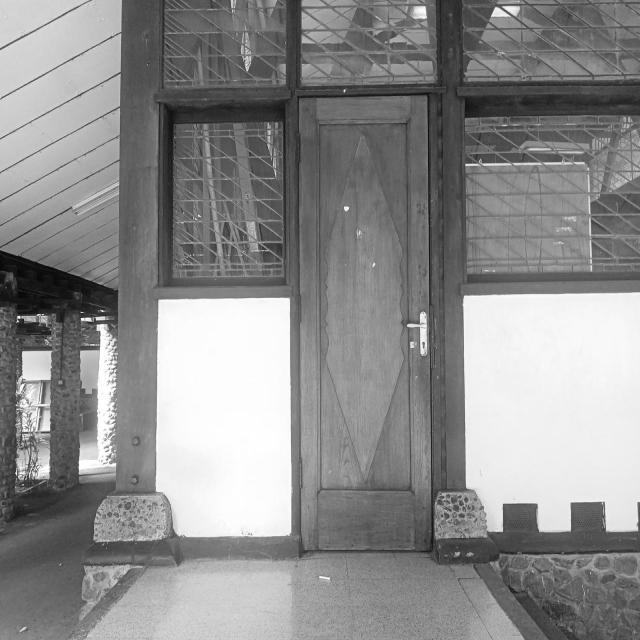door: (295, 87, 433, 554)
